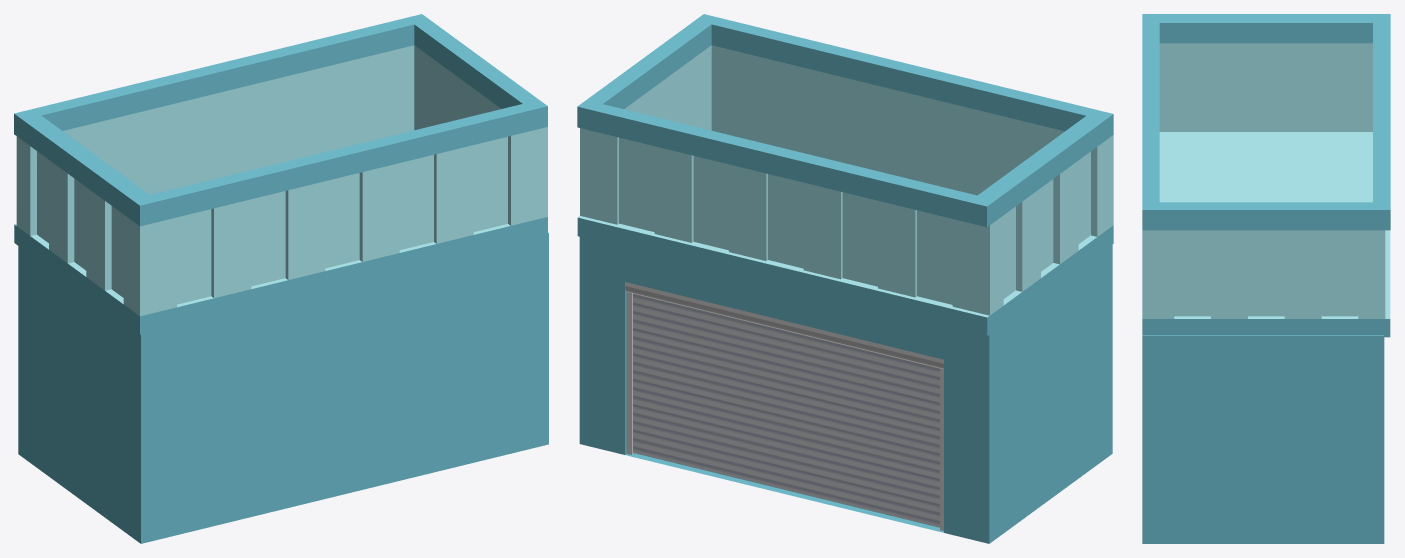
The model's file is closedlargeshop.fbx.
The picture shows the model from 3 angles, left to right: view 1: azimuth 30°, elevation 25°; view 2: azimuth 150°, elevation 25°; view 3: azimuth 270°, elevation 25°; orthographic projection.
Visible parts, largest first — view 1: Roof.002, closedlargeshop; view 2: Roof.002, closedlargeshop, Cube.362, Cube.368, Cube.366, Cube.369; view 3: Roof.002, closedlargeshop.
Boxes of the visible parts, left/top/right/bottom form: Roof.002: left=14, top=14, right=547, bottom=334; closedlargeshop: left=18, top=232, right=548, bottom=543; Roof.002: left=577, top=14, right=1113, bottom=335; closedlargeshop: left=579, top=237, right=1112, bottom=543; Cube.362: left=633, top=293, right=939, bottom=527; Cube.368: left=625, top=282, right=943, bottom=369; Cube.366: left=626, top=292, right=632, bottom=454; Cube.369: left=940, top=368, right=943, bottom=530; Roof.002: left=1142, top=14, right=1390, bottom=337; closedlargeshop: left=1142, top=335, right=1384, bottom=543.
Bounding box in the file's own units: 12.15 × 9.61 × 6.48.
4 materials, 1 textured.
